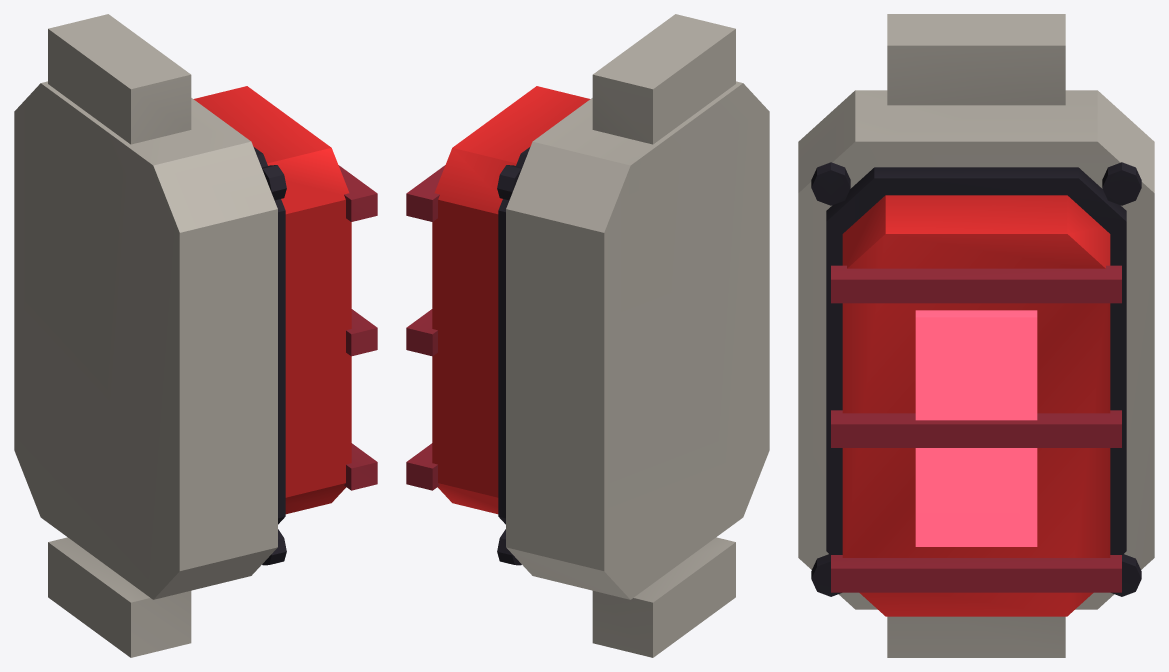
Rendered from prop.emergency-light.lod1.glb.
The picture shows the model from 3 angles, left to right: view 1: azimuth 30°, elevation 25°; view 2: azimuth 150°, elevation 25°; view 3: azimuth 270°, elevation 25°; orthographic projection. The views are drawn at different scales.
Visible parts, largest first — view 1: emitter:body:6; view 2: emitter:body:6; view 3: emitter:body:6.
Part boxes in pixels (x1,y1,x2,y2): emitter:body:6: [14, 14, 377, 657]; emitter:body:6: [406, 14, 769, 657]; emitter:body:6: [798, 14, 1154, 657].
Size of the model in its own units: 0.2925 by 0.72 by 0.38.
